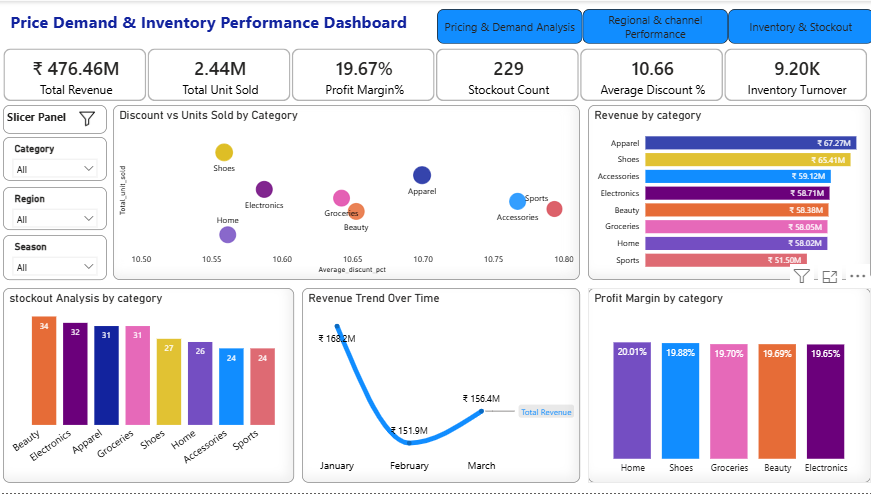

This screenshot's page, from the dashboard's own definition file:
{"tool":"powerbi","page":{"name":"Executive Summery","canvas":[1280,720],"ordinal":0},"visuals":[{"type":"cardVisual","fields":{"Data":["retail_pricing_demand_100k.Total Revenue","retail_pricing_demand_100k.Total_unit_sold","retail_pricing_demand_100k.profit_margin%","retail_pricing_demand_100k.stockout_count","retail_pricing_demand_100k.Average_discunt_pct","retail_pricing_demand_100k.Inventory_turnover"]},"box":[0,64.4,1280,87.8],"z":0},{"type":"textbox","box":[0,0,639.5,62.9],"z":1000},{"type":"lineChart","title":"Revenue Trend Over Time","fields":{"Y":["retail_pricing_demand_100k.Total Revenue"],"Category":["Custom calendar.Custom date.Variation.Date Hierarchy.Month"]},"box":[441.8,419.8,407.4,284.9],"z":2000},{"type":"clusteredBarChart","title":"Revenue by category","fields":{"Y":["retail_pricing_demand_100k.Total Revenue"],"Category":["retail_pricing_demand_100k.category"]},"box":[860.2,152.8,414.3,256],"z":3000},{"type":"columnChart","title":"Profit Margin by category","fields":{"Category":["retail_pricing_demand_100k.category"],"Y":["retail_pricing_demand_100k.profit_margin%"]},"box":[860.2,419.8,414.3,284.9],"z":4000},{"type":"columnChart","title":"stockout Analysis by category","fields":{"Y":["retail_pricing_demand_100k.stockout_count"],"Category":["retail_pricing_demand_100k.category"]},"box":[4.4,420,425.9,285.4],"z":5000},{"type":"scatterChart","title":"Discount vs Units Sold by Category","fields":{"X":["retail_pricing_demand_100k.Average_discunt_pct"],"Y":["retail_pricing_demand_100k.Total_unit_sold"],"Size":["retail_pricing_demand_100k.Total Revenue"],"Category":["retail_pricing_demand_100k.category"]},"box":[165.4,152.2,683.4,256.1],"z":6000},{"type":"slicer","fields":{"Values":["retail_pricing_demand_100k.category"]},"box":[4.4,199,152.2,64.4],"z":7000},{"type":"slicer","fields":{"Values":["retail_pricing_demand_100k.region"]},"box":[4.4,272.2,152.2,62.9],"z":8000},{"type":"slicer","fields":{"Values":["retail_pricing_demand_100k.season"]},"box":[4.4,342.4,152.2,65.9],"z":9000},{"type":"textbox","box":[4.4,152.2,152.2,42.4],"z":10000},{"type":"image","box":[97.7,161,59.2,23.4],"z":11000},{"type":"pageNavigator","box":[639.5,11.7,641,51.2],"z":15002}]}

Visuals, with their boxes in screenshot pixels (x1, y1, x2, y2), scaled from the page's 1280x720 canvas onto the 871x494 screenshot:
cardVisual - retail_pricing_demand_100k.Total Revenue x retail_pricing_demand_100k.Total_unit_sold: 0/44/870/104
textbox: 0/0/435/43
"Revenue Trend Over Time" lineChart: 301/288/578/484
"Revenue by category" clusteredBarChart: 585/105/867/280
"Profit Margin by category" columnChart: 585/288/867/484
"stockout Analysis by category" columnChart: 3/288/293/484
"Discount vs Units Sold by Category" scatterChart: 113/104/578/280
slicer - retail_pricing_demand_100k.category: 3/137/107/181
slicer - retail_pricing_demand_100k.region: 3/187/107/230
slicer - retail_pricing_demand_100k.season: 3/235/107/280
textbox: 3/104/107/134
image: 66/110/107/127
pageNavigator: 435/8/870/43
